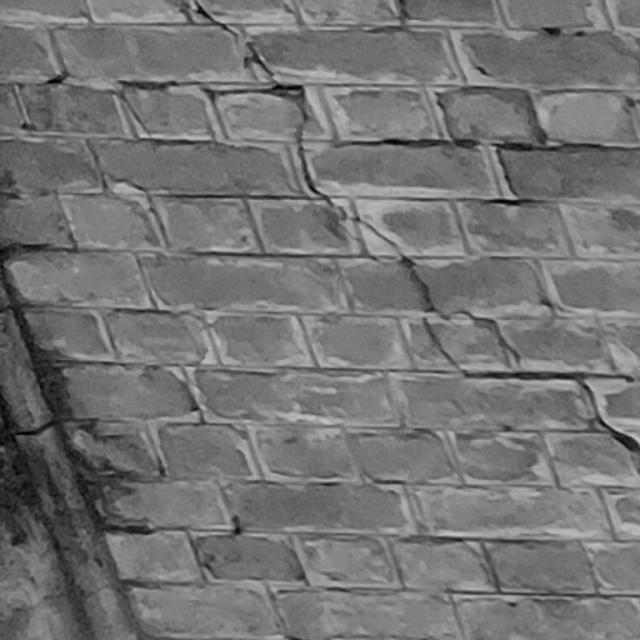crack: (193, 1, 639, 454)
